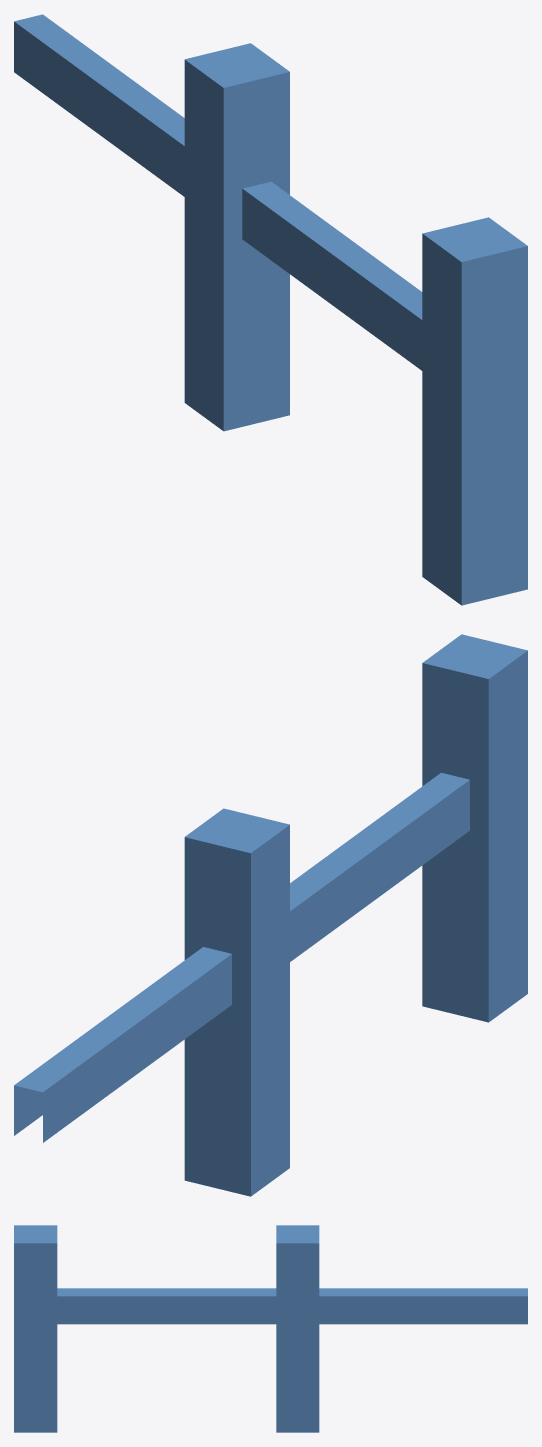
File: langan_02.FBX
The picture shows the model from 3 angles, top to bottom: view 1: azimuth 30°, elevation 25°; view 2: azimuth 150°, elevation 25°; view 3: azimuth 270°, elevation 25°; orthographic projection. The views are drawn at different scales.
Parts seen in each view (by area): view 1: langan_02; view 2: langan_02; view 3: langan_02.
Boxes of the visible parts, left/top/right/bottom form: langan_02: left=14, top=14, right=527, bottom=605; langan_02: left=14, top=634, right=527, bottom=1196; langan_02: left=14, top=1225, right=527, bottom=1432.
Size of the model in its own units: 10.35 by 51.17 by 126.
